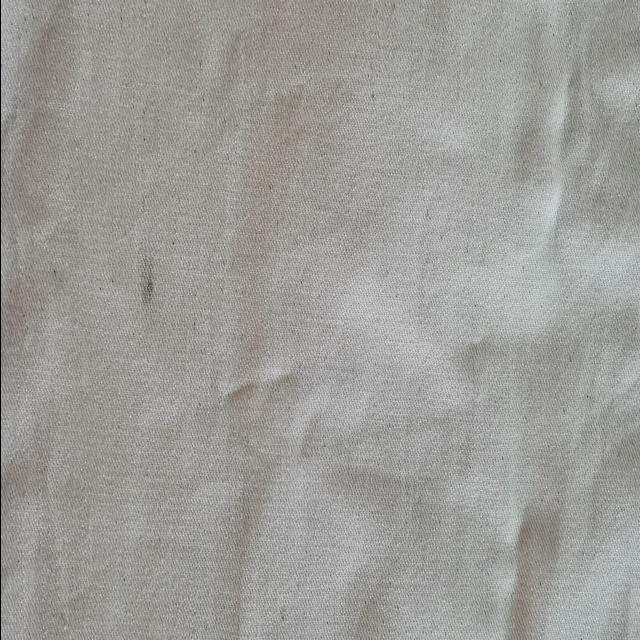taaaches: (126, 224, 165, 322)
